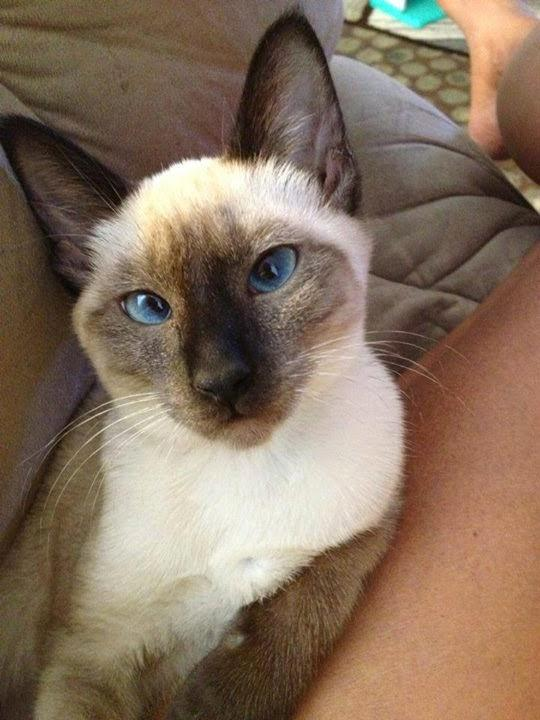siamese: (1, 4, 393, 464)
